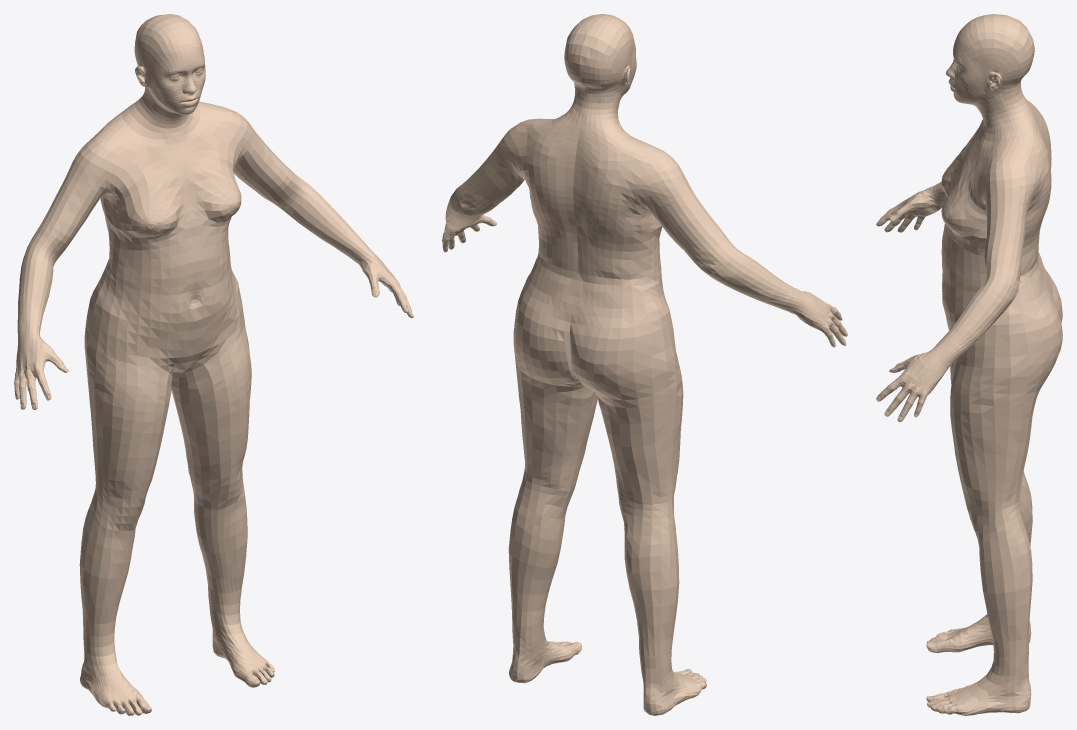
File: female-young-heavy-low.glb
3 renders of one model, left to right at view 1: azimuth 30°, elevation 25°; view 2: azimuth 150°, elevation 25°; view 3: azimuth 270°, elevation 25°, orthographic.
Visible parts, largest first — view 1: world; view 2: world; view 3: world.
Boxes of the visible parts, bbox=[...] form: world: bbox=[14, 14, 413, 715]; world: bbox=[442, 14, 847, 715]; world: bbox=[876, 14, 1062, 715].
Size of the model in its own units: 1.1 by 1.78 by 0.4556.
